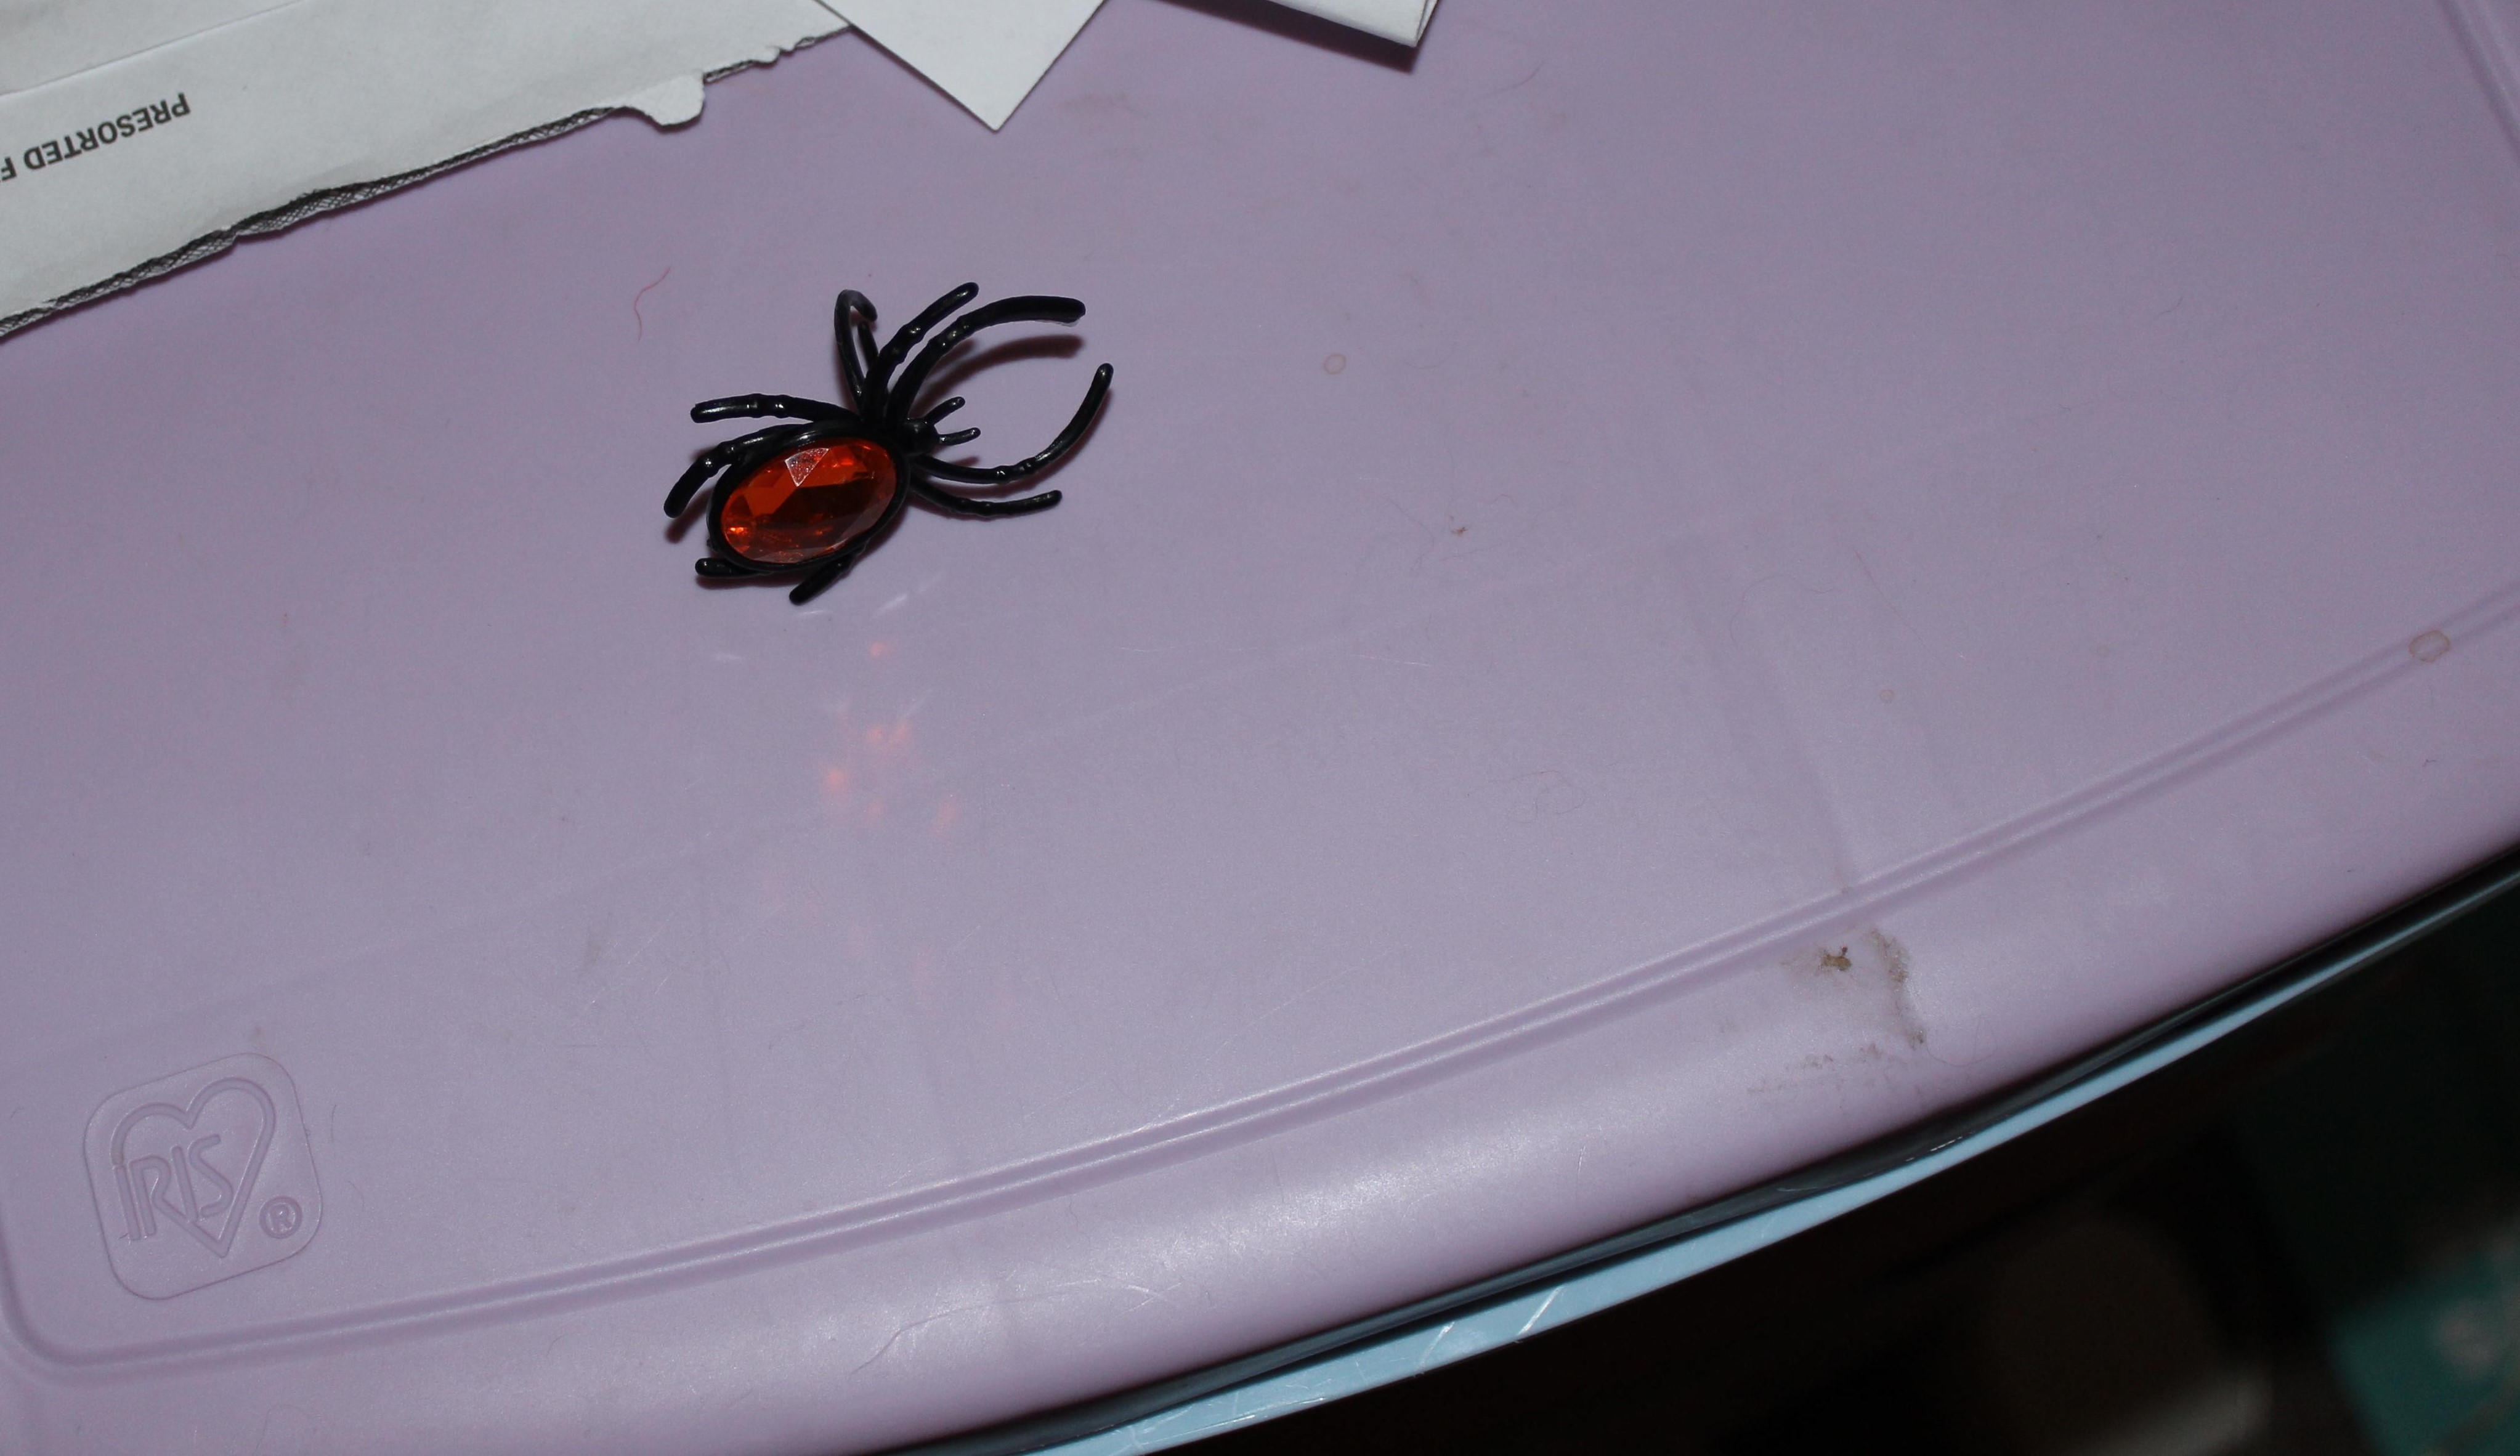spiderRing: (626, 250, 1151, 633)
